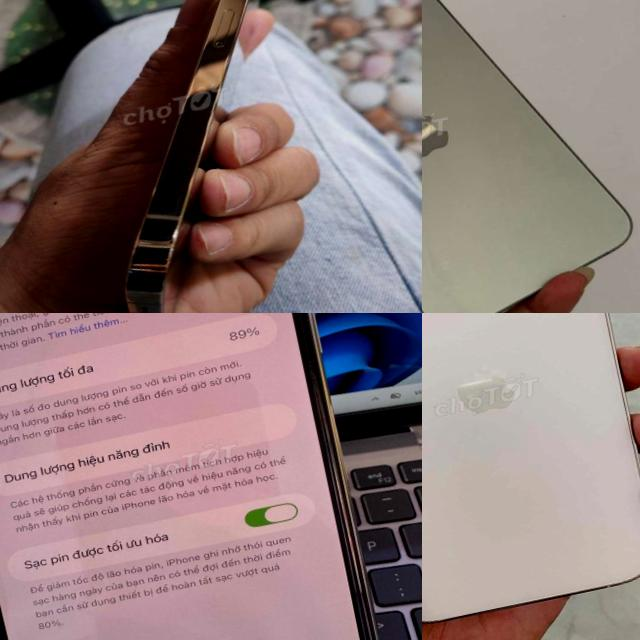gen_11: (0, 313, 415, 640)
gen_12_13: (31, 0, 377, 313), (422, 313, 640, 637)
gen_15: (422, 0, 640, 313)
